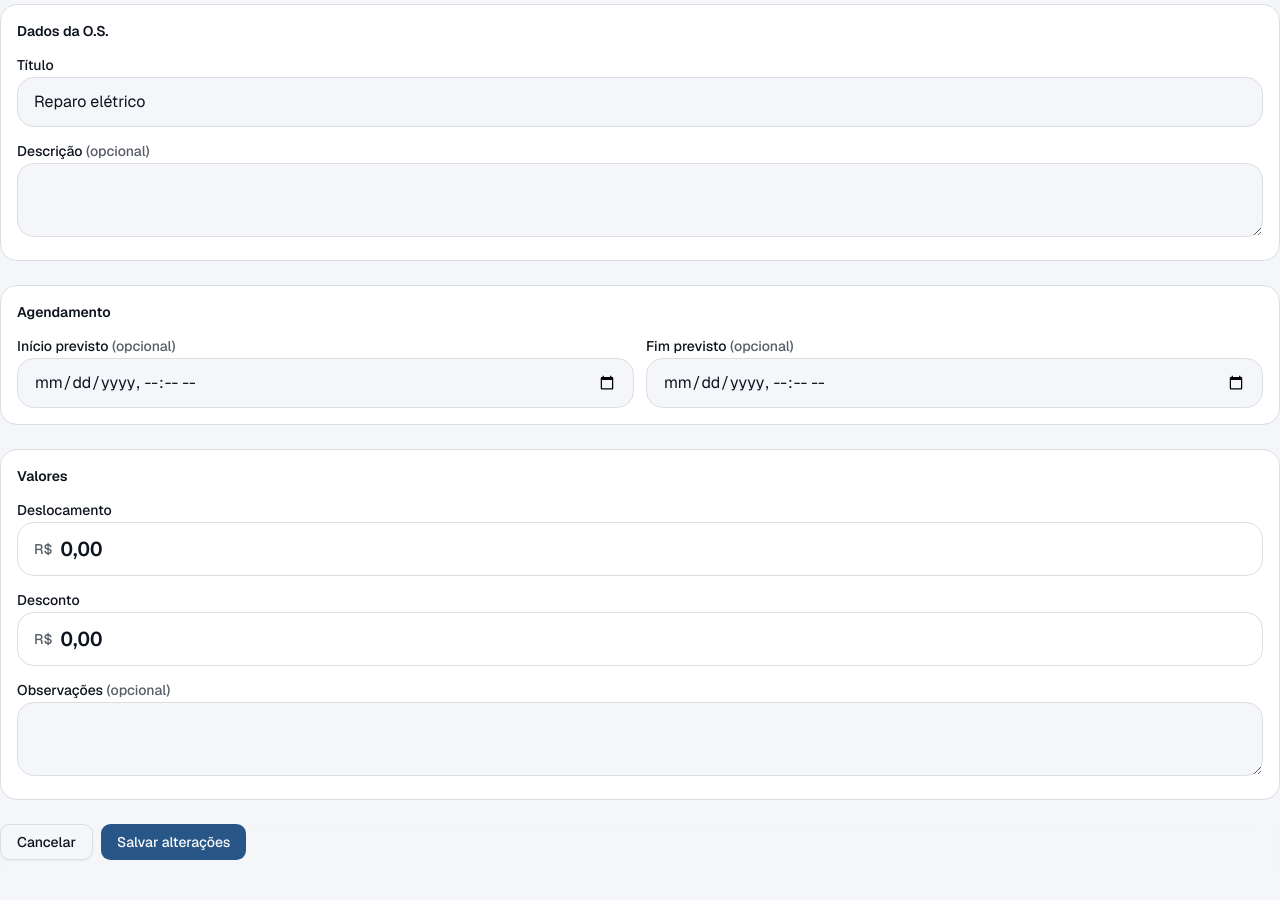
Test: ServiceOrderEdit › EH12: order_discount is validated against the server-loaded subtotal, not a locally recomputed one
The width and height of the screenshot is (1280, 900).
(page scrolled)
Type "999,00" into the field labelled "Desconto" at (653, 639), box [60, 625, 1246, 653]
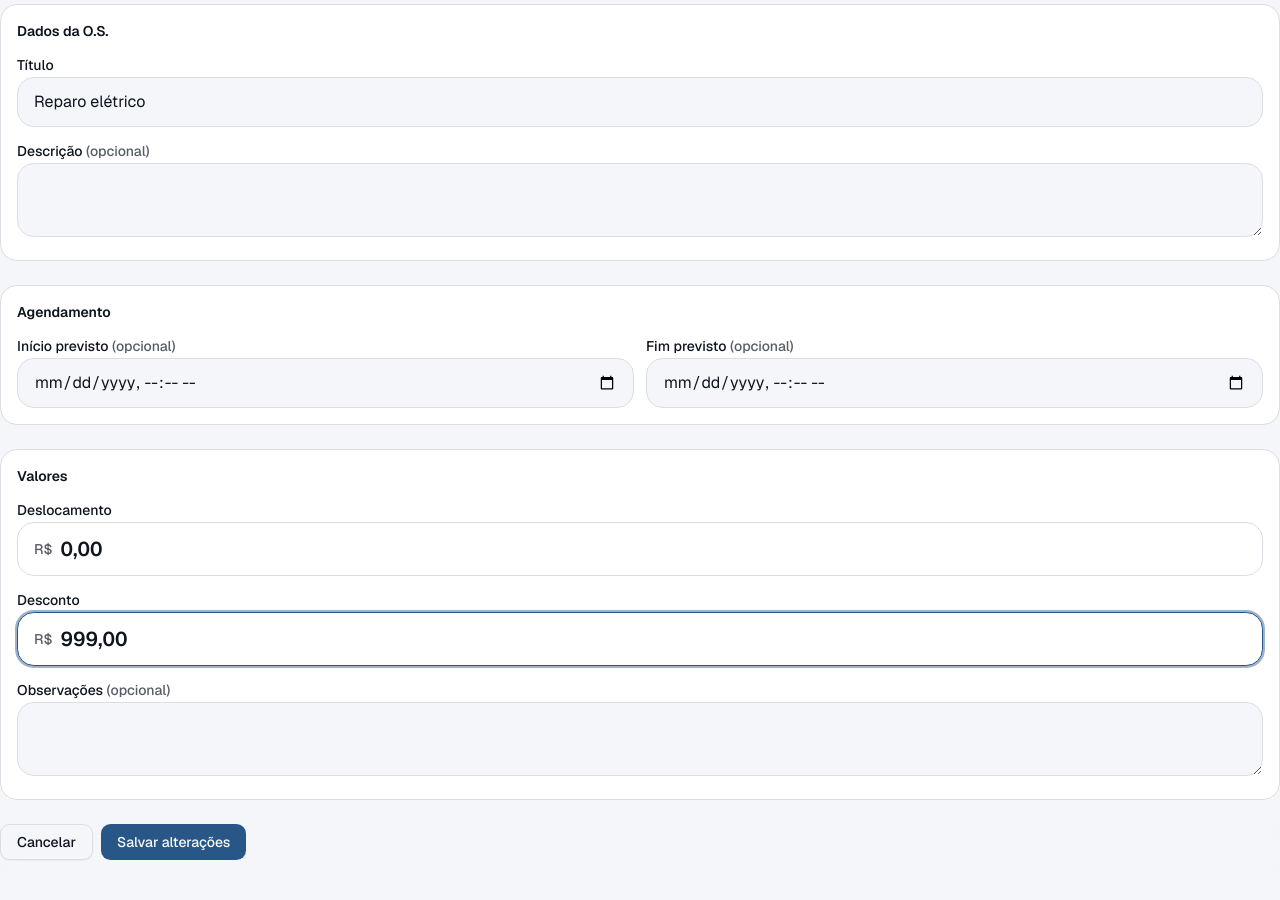
Click the button "Salvar alterações" at (174, 842), box [101, 824, 246, 860]
(page scrolled)
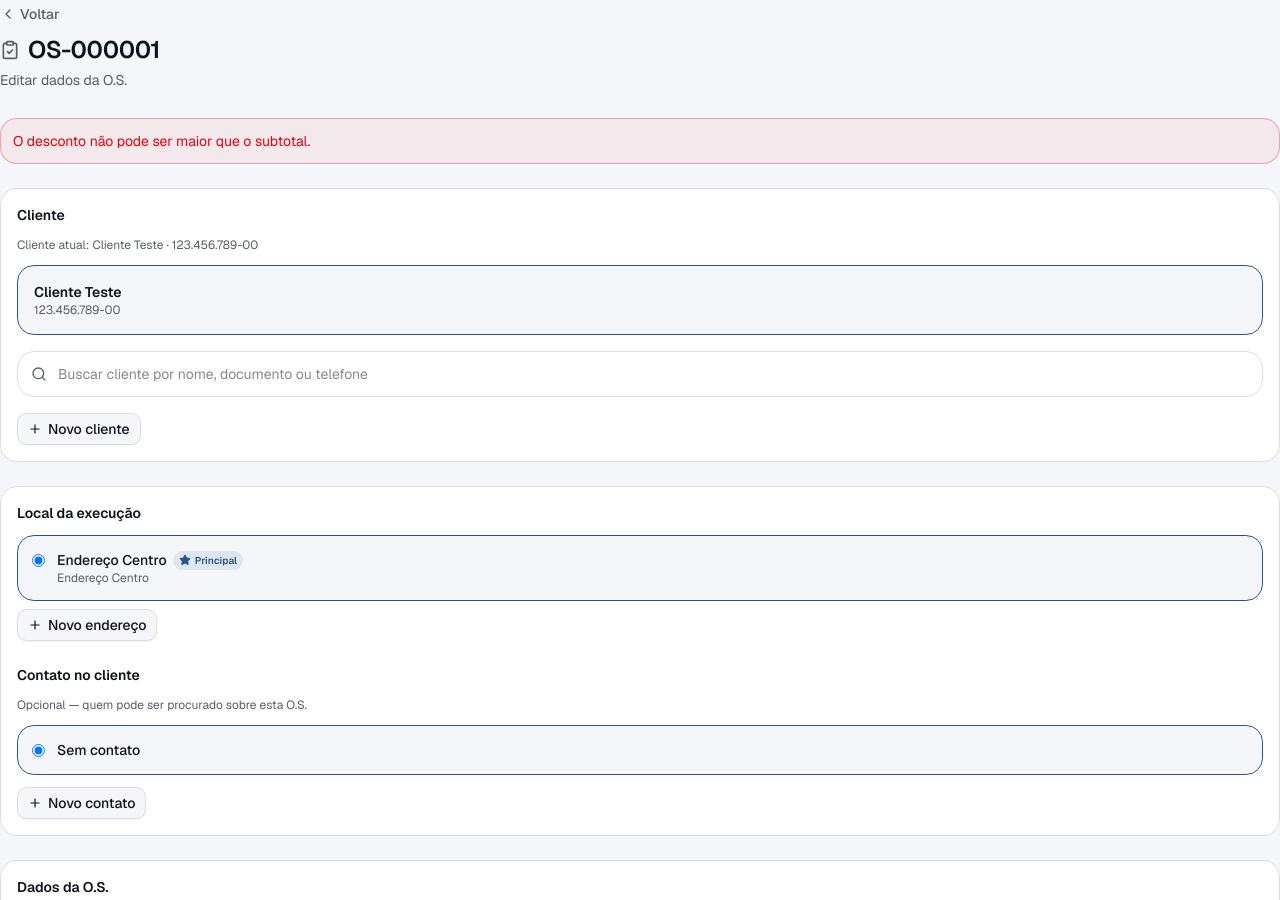
expect the text "O desconto não pode ser maior que o subtotal." is shown: met, box [13, 132, 310, 150]
